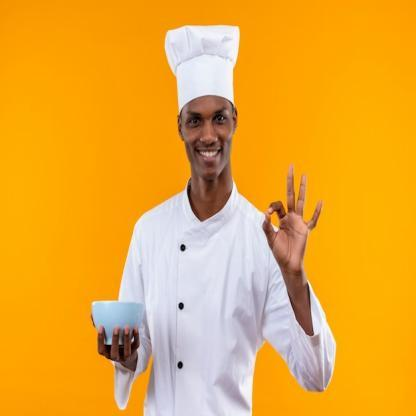ok: (260, 161, 326, 284)
